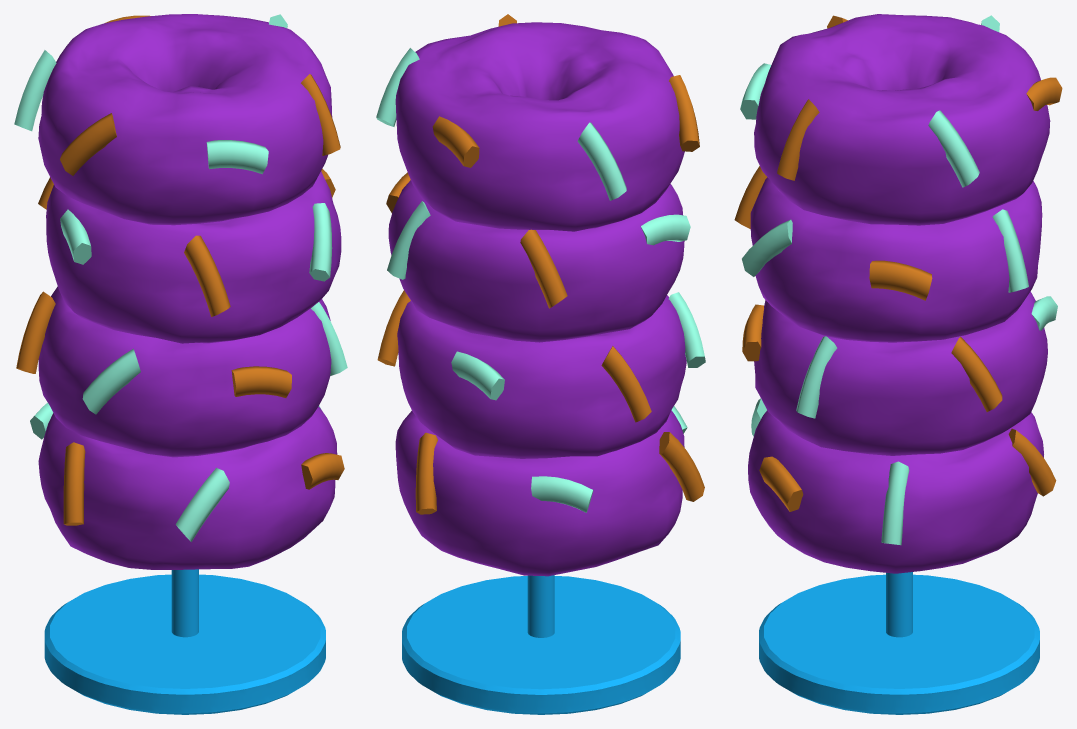
File: Donut-Pink.fbx
3 views of the same model, side by side, from view 1: azimuth 30°, elevation 25°; view 2: azimuth 150°, elevation 25°; view 3: azimuth 270°, elevation 25° (orthographic).
Visible parts, largest first — view 1: nurbsToPoly010, Cylinder025, nurbsToPoly009, nurbsToPoly1, nurbsToPoly008, Cylinder015, Cylinder004, Cylinder010, Cylinder024, Cylinder003, Cylinder012, Cylinder022 (+7 smaller); view 2: nurbsToPoly010, Cylinder025, nurbsToPoly008, nurbsToPoly1, nurbsToPoly009, Cylinder017, Cylinder021, Cylinder003, Cylinder009, Cylinder002, Cylinder005, Cylinder008 (+7 smaller); view 3: nurbsToPoly010, Cylinder025, nurbsToPoly009, nurbsToPoly1, nurbsToPoly008, Cylinder018, Cylinder023, Cylinder001, Cylinder011, Cylinder007, Cylinder016, Cylinder013 (+8 smaller).
Boxes of the visible parts, x1=… form: nurbsToPoly010: x1=38, y1=14, x2=332, y2=225; Cylinder025: x1=44, y1=569, x2=325, y2=714; nurbsToPoly009: x1=46, y1=171, x2=341, y2=343; nurbsToPoly1: x1=38, y1=406, x2=337, y2=569; nurbsToPoly008: x1=38, y1=286, x2=331, y2=457; Cylinder015: x1=184, y1=235, x2=230, y2=316; Cylinder004: x1=175, y1=468, x2=229, y2=541; Cylinder010: x1=82, y1=348, x2=140, y2=414; Cylinder024: x1=206, y1=140, x2=268, y2=174; Cylinder003: x1=63, y1=442, x2=85, y2=525; Cylinder012: x1=231, y1=366, x2=291, y2=397; Cylinder022: x1=60, y1=113, x2=116, y2=175; nurbsToPoly010: x1=395, y1=22, x2=684, y2=231; Cylinder025: x1=402, y1=575, x2=680, y2=714; nurbsToPoly008: x1=397, y1=295, x2=686, y2=458; nurbsToPoly1: x1=395, y1=410, x2=684, y2=576; nurbsToPoly009: x1=388, y1=180, x2=684, y2=342; Cylinder017: x1=520, y1=229, x2=567, y2=308; Cylinder021: x1=577, y1=122, x2=626, y2=200; Cylinder003: x1=659, y1=432, x2=704, y2=501; Cylinder009: x1=601, y1=346, x2=651, y2=422; Cylinder002: x1=531, y1=476, x2=593, y2=512; Cylinder005: x1=415, y1=432, x2=437, y2=514; Cylinder008: x1=451, y1=351, x2=504, y2=400; nurbsToPoly010: x1=754, y1=14, x2=1050, y2=225; Cylinder025: x1=759, y1=572, x2=1039, y2=714; nurbsToPoly009: x1=750, y1=177, x2=1042, y2=342; nurbsToPoly1: x1=748, y1=410, x2=1043, y2=573; nurbsToPoly008: x1=754, y1=291, x2=1047, y2=455; Cylinder018: x1=869, y1=260, x2=932, y2=300; Cylinder023: x1=928, y1=110, x2=979, y2=187; Cylinder001: x1=881, y1=461, x2=909, y2=545; Cylinder011: x1=951, y1=336, x2=1002, y2=411; Cylinder007: x1=796, y1=336, x2=837, y2=418; Cylinder016: x1=742, y1=219, x2=792, y2=276; Cylinder013: x1=992, y1=209, x2=1028, y2=292.
Bounding box in the file's own units: 4.31 × 8.67 × 4.29.
